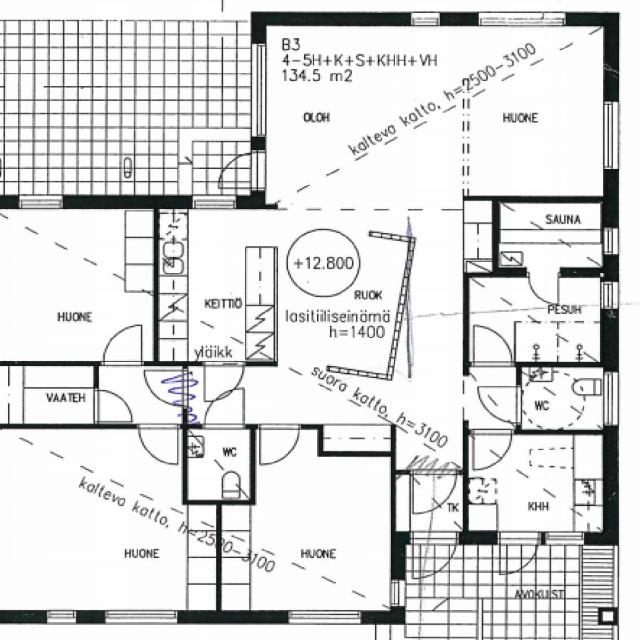door: (414, 532, 456, 583), (213, 153, 267, 188), (501, 532, 539, 579), (205, 387, 245, 428), (261, 424, 300, 464), (139, 424, 178, 464), (205, 361, 244, 401), (479, 387, 523, 422), (474, 327, 512, 366), (104, 327, 142, 365), (475, 430, 512, 469), (94, 391, 132, 422), (530, 272, 560, 304)
